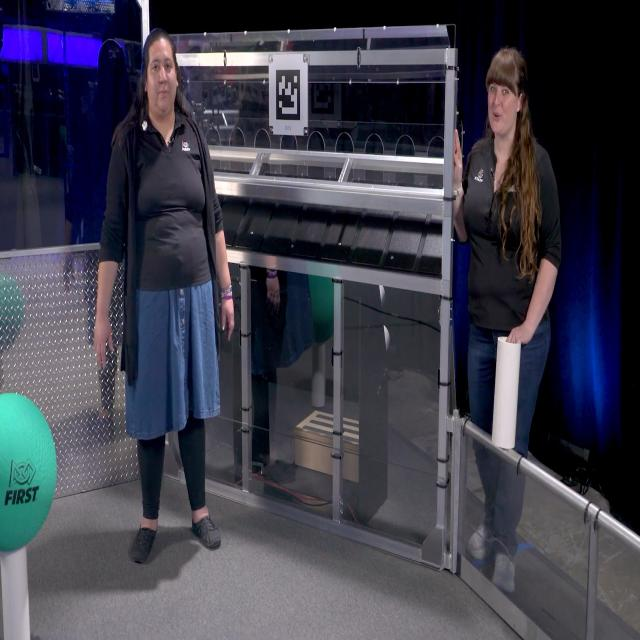Algae: (0, 393, 57, 553)
Coral: (491, 336, 522, 450), (0, 547, 31, 640)
